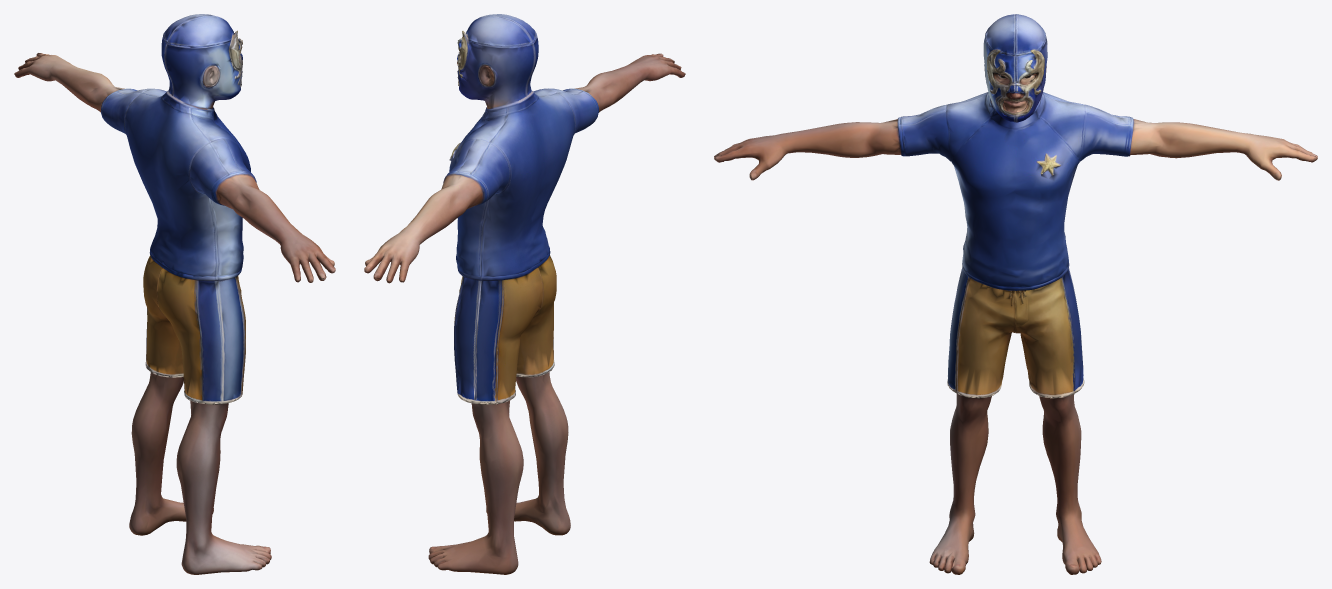
Rendered from the-luchador.glb.
3 renders of one model, left to right at view 1: azimuth 30°, elevation 25°; view 2: azimuth 150°, elevation 25°; view 3: azimuth 270°, elevation 25°, orthographic.
Visible parts, largest first — view 1: the-luchador; view 2: the-luchador; view 3: the-luchador.
Boxes of the visible parts, x1,y1,x2,y2 form: the-luchador: (14,14,335,574); the-luchador: (364,14,685,574); the-luchador: (714,14,1317,574).
Size of the model in its own units: 0.1742 by 0.9607 by 0.9802.
1 material, 1 textured.
